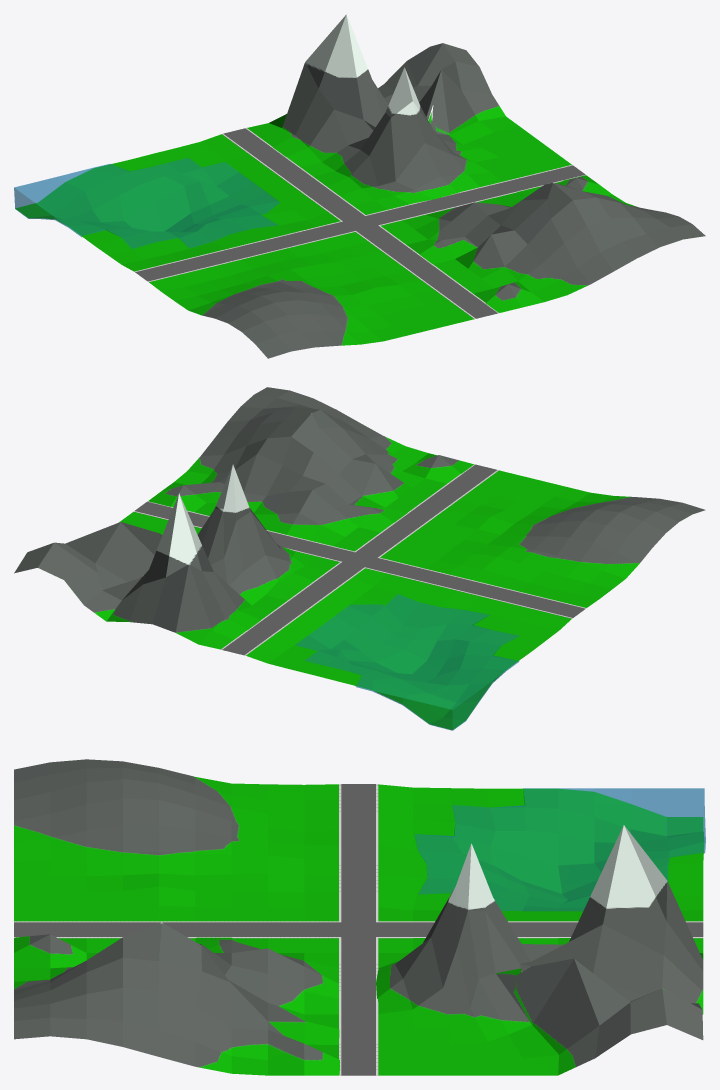
File: Landscape_V1.fbx
3 views of the same model, one above another, from view 1: azimuth 30°, elevation 25°; view 2: azimuth 150°, elevation 25°; view 3: azimuth 270°, elevation 25° (orthographic). The views are drawn at different scales.
Visible parts, largest first — view 1: Landscape, Water, Street_3, Street_1, Street_4, Street_2, Sidewalk_3, Sidewalk_1; view 2: Landscape, Water, Street_3, Street_2, Street_4, Street_1, Sidewalk_3; view 3: Landscape, Water, Street_1, Street_3, Street_4, Street_2, Sidewalk_4, Sidewalk_3, Sidewalk_1, Crossing_centre.
Boxes of the visible parts, bbox=[...] form: Landscape: bbox=[15, 14, 705, 358]; Water: bbox=[14, 158, 279, 248]; Street_3: bbox=[135, 221, 355, 281]; Street_1: bbox=[365, 165, 585, 225]; Street_4: bbox=[356, 225, 497, 318]; Street_2: bbox=[223, 128, 364, 221]; Sidewalk_3: bbox=[134, 221, 354, 281]; Sidewalk_1: bbox=[366, 164, 586, 225]; Landscape: bbox=[14, 387, 705, 729]; Water: bbox=[295, 594, 519, 730]; Street_3: bbox=[365, 558, 585, 617]; Street_2: bbox=[222, 562, 363, 655]; Street_4: bbox=[355, 464, 496, 557]; Street_1: bbox=[135, 501, 354, 561]; Sidewalk_3: bbox=[364, 557, 586, 618]; Landscape: bbox=[14, 759, 704, 1075]; Water: bbox=[415, 788, 705, 910]; Street_1: bbox=[341, 937, 375, 1075]; Street_3: bbox=[341, 784, 375, 922]; Street_4: bbox=[14, 922, 341, 936]; Street_2: bbox=[376, 922, 703, 936]; Sidewalk_4: bbox=[14, 921, 340, 938]; Sidewalk_3: bbox=[339, 784, 378, 922]; Sidewalk_1: bbox=[339, 937, 378, 1075]; Crossing_centre: bbox=[341, 922, 375, 937].
Size of the model in its own units: 31645 by 10460 by 31725.
